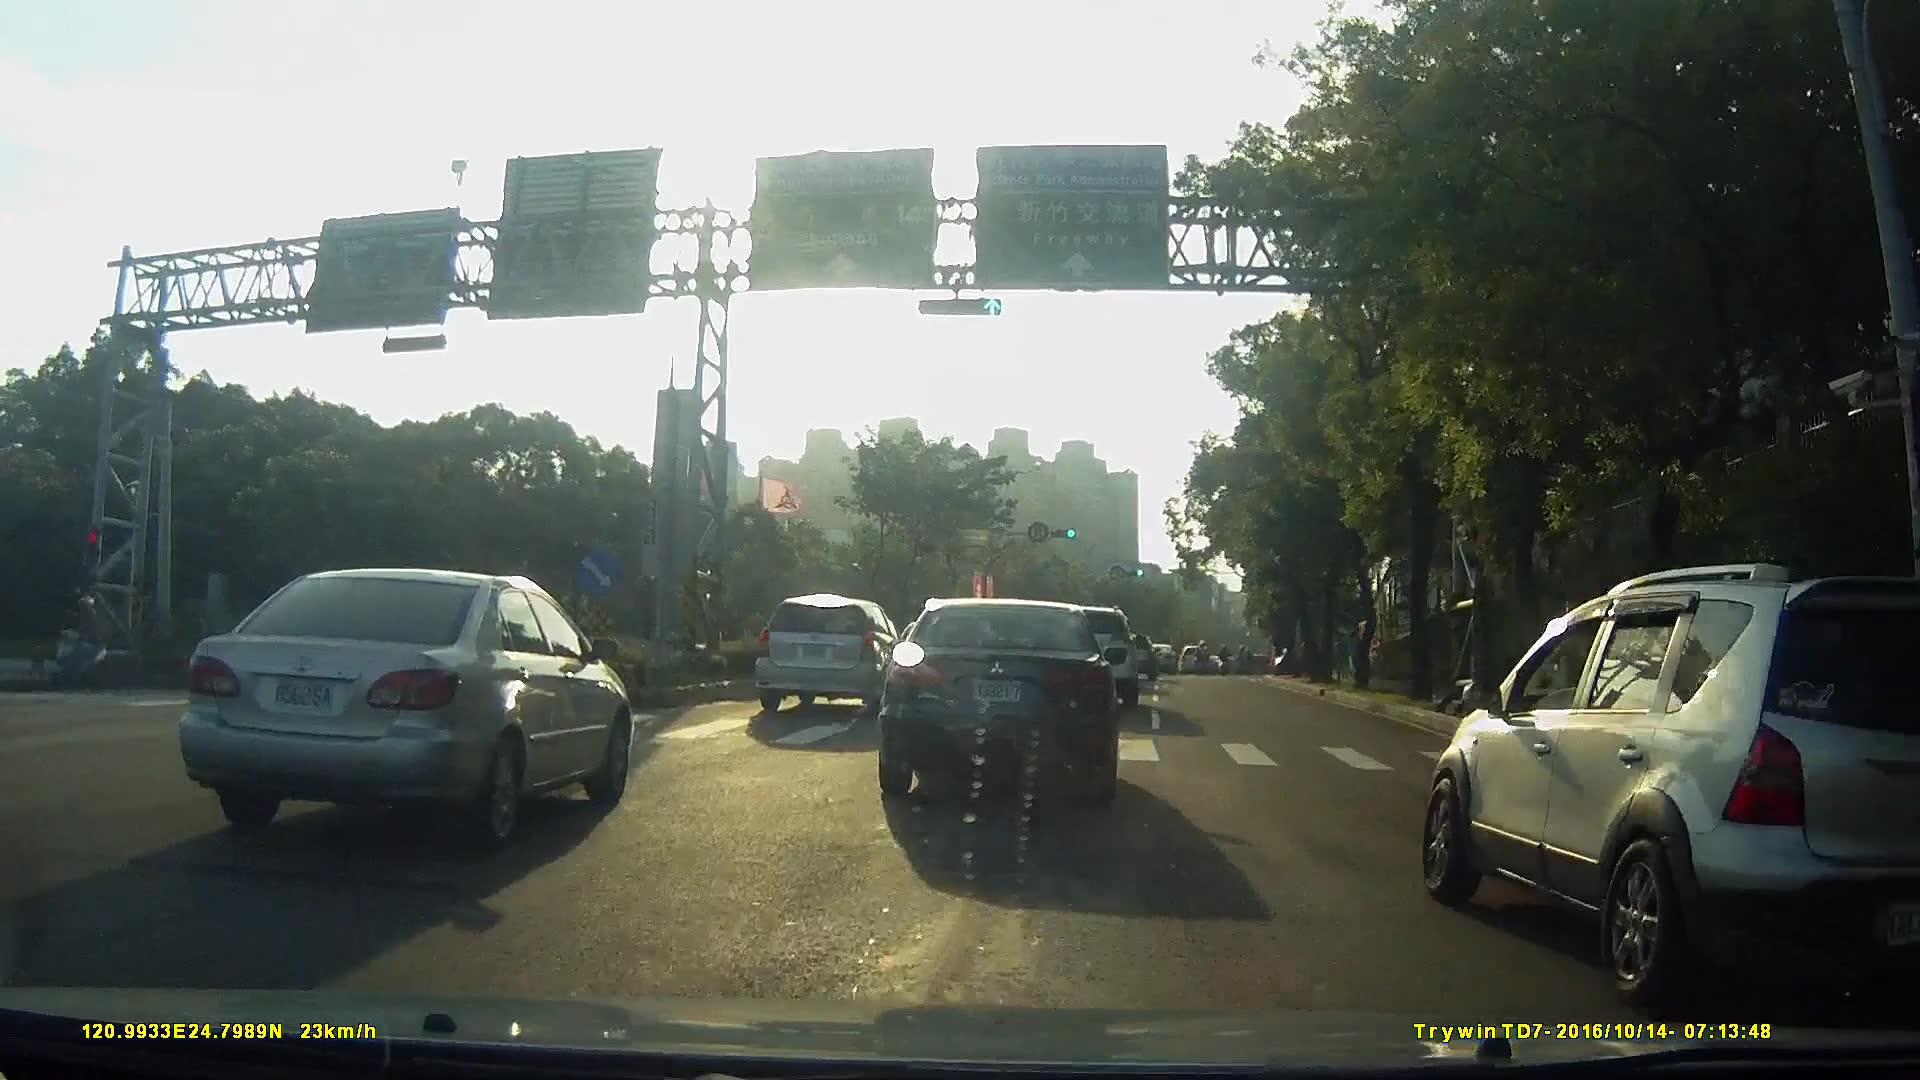rider: (42, 596, 106, 693)
vehicle: (1409, 561, 1920, 1008), (157, 559, 650, 857), (865, 598, 1140, 813), (743, 593, 899, 717), (1136, 640, 1170, 672), (1168, 639, 1198, 672)
